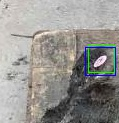text: (88, 45, 114, 72)
